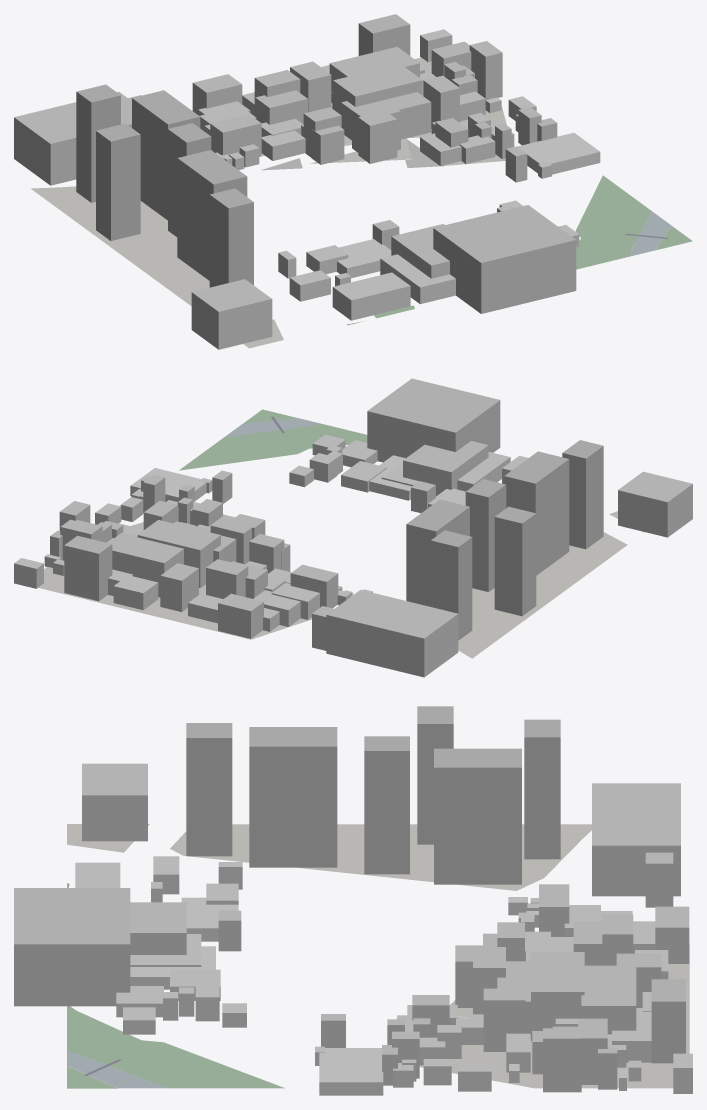
File: 130_101_mid.glb
3 views of the same model, one above another, from view 1: azimuth 30°, elevation 25°; view 2: azimuth 150°, elevation 25°; view 3: azimuth 270°, elevation 25° (orthographic). The views are drawn at different scales.
Size of the model in its own units: 540 by 111 by 545.
